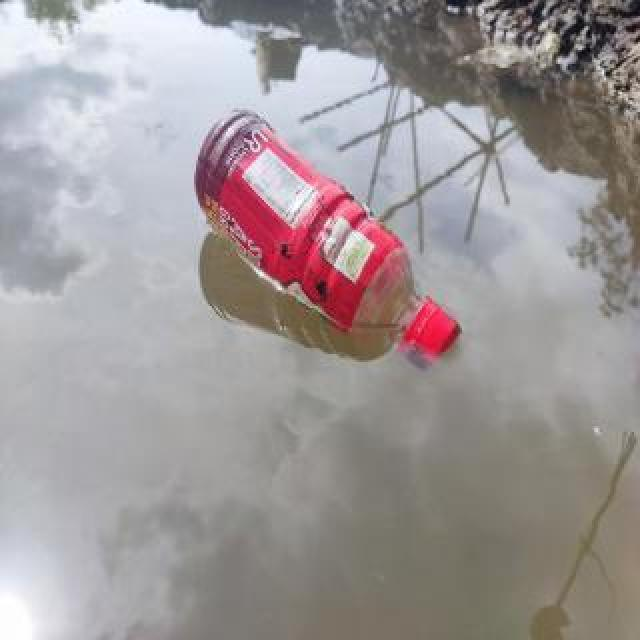bottle: (189, 97, 465, 375)
